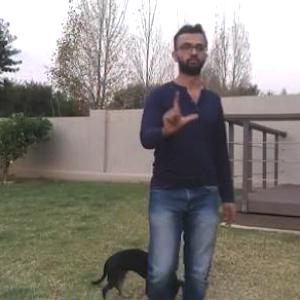land_hand: (158, 82, 202, 136)
